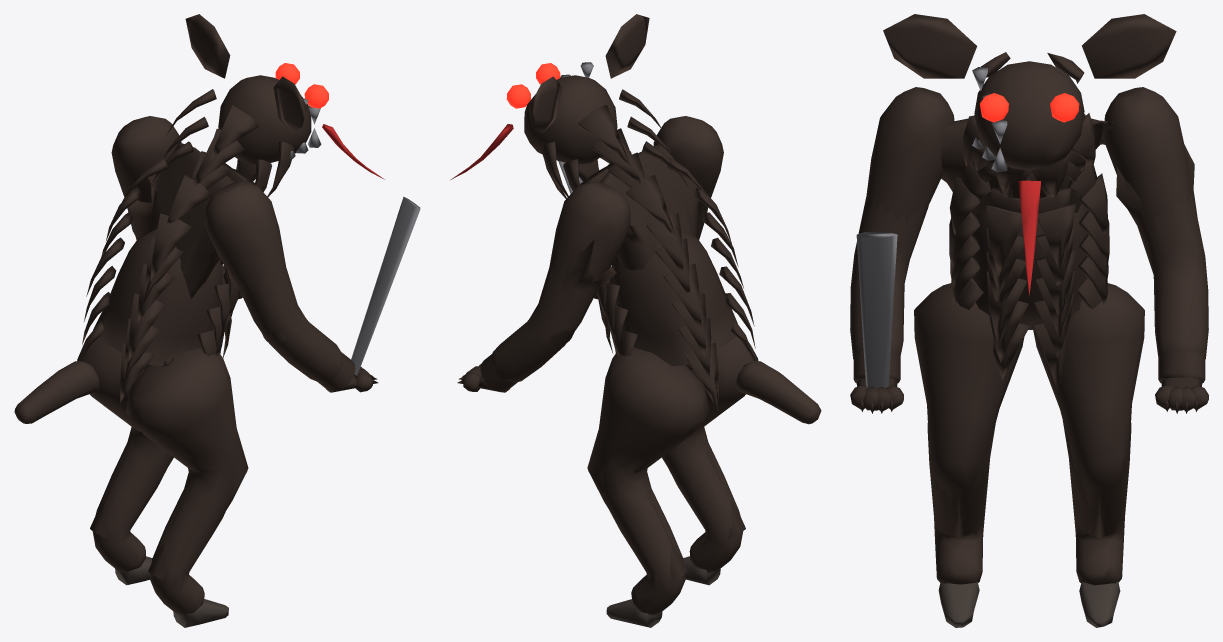
The model's file is kallikantzaros.glb.
The picture shows the model from 3 angles, left to right: view 1: azimuth 30°, elevation 25°; view 2: azimuth 150°, elevation 25°; view 3: azimuth 270°, elevation 25°; orthographic projection. The views are drawn at different scales.
Visible parts, largest first — view 1: kallikantzaros.001; view 2: kallikantzaros.001; view 3: kallikantzaros.001.
Boxes of the visible parts, x1,y1,x2,y2 form: kallikantzaros.001: (14, 14, 420, 627); kallikantzaros.001: (450, 14, 821, 627); kallikantzaros.001: (850, 14, 1208, 627).
Bounding box in the file's own units: 0.878 × 1.21 × 0.612.
